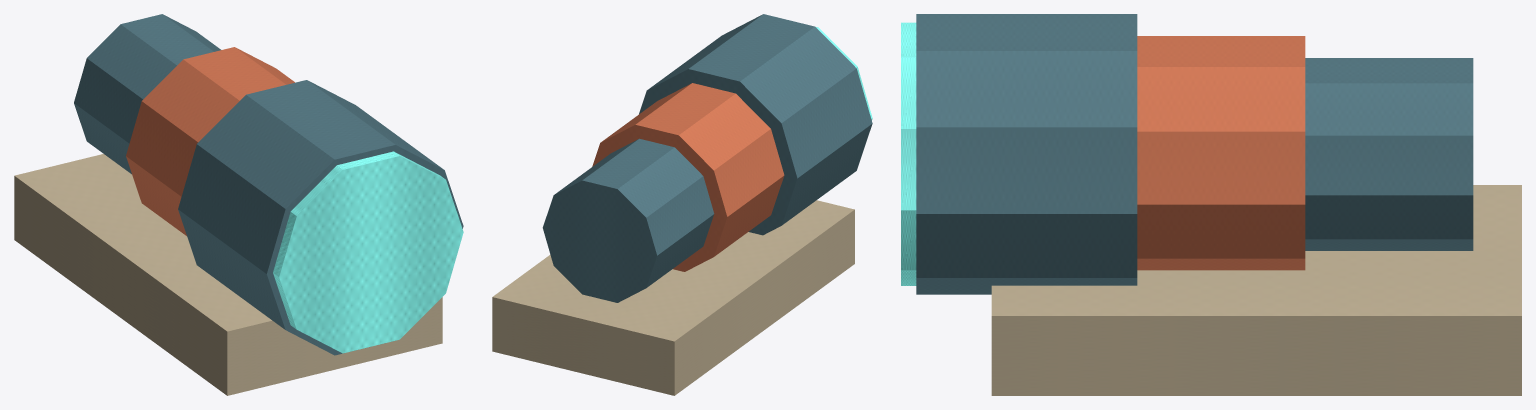
The model's file is atlas100-s049-a05.glb.
3 renders of one model, left to right at view 1: azimuth 30°, elevation 25°; view 2: azimuth 150°, elevation 25°; view 3: azimuth 270°, elevation 25°, orthographic. The views are drawn at different scales.
Parts seen in each view (by area): view 1: atlas100-s049-a05:part-004, atlas100-s049-a05:part-003, atlas100-s049-a05:part-002, atlas100-s049-a05:part-001, atlas100-s049-a05:part-000; view 2: atlas100-s049-a05:part-004, atlas100-s049-a05:part-002, atlas100-s049-a05:part-000, atlas100-s049-a05:part-001; view 3: atlas100-s049-a05:part-004, atlas100-s049-a05:part-002, atlas100-s049-a05:part-001, atlas100-s049-a05:part-000, atlas100-s049-a05:part-003.
Boxes of the visible parts, x1,y1,x2,y2 form: atlas100-s049-a05:part-004: (14, 154, 442, 395); atlas100-s049-a05:part-003: (273, 151, 463, 353); atlas100-s049-a05:part-002: (178, 80, 463, 355); atlas100-s049-a05:part-001: (126, 47, 294, 235); atlas100-s049-a05:part-000: (74, 14, 220, 174); atlas100-s049-a05:part-004: (492, 200, 854, 395); atlas100-s049-a05:part-002: (639, 14, 872, 235); atlas100-s049-a05:part-000: (542, 138, 714, 302); atlas100-s049-a05:part-001: (592, 83, 784, 271); atlas100-s049-a05:part-004: (991, 185, 1521, 395); atlas100-s049-a05:part-002: (916, 14, 1137, 294); atlas100-s049-a05:part-001: (1137, 36, 1305, 270); atlas100-s049-a05:part-000: (1305, 58, 1473, 250); atlas100-s049-a05:part-003: (901, 22, 916, 285).
Bounding box in the file's own units: 0.3822 × 0.4064 × 0.7671.
4 materials, 4 textured.
